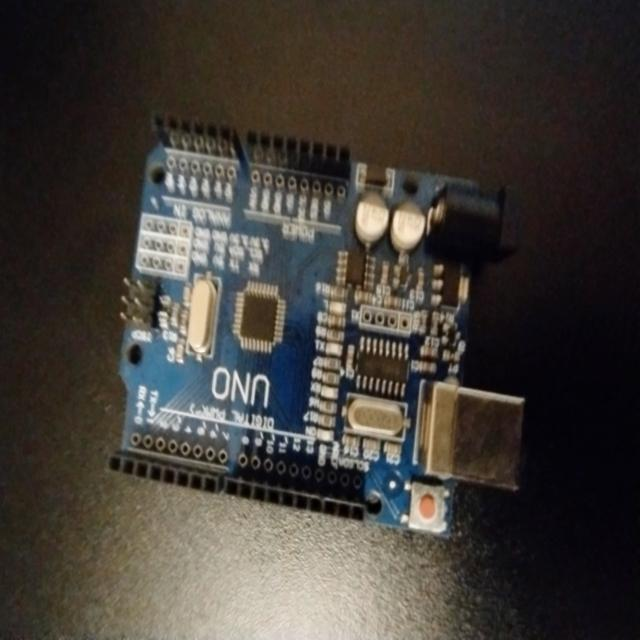arduino: (109, 106, 531, 558)
